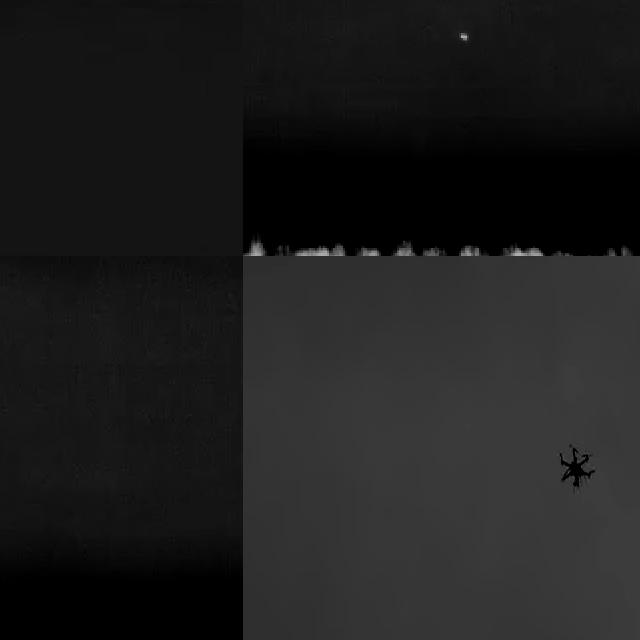1: (449, 28, 473, 53)
drone: (557, 442, 599, 496)
